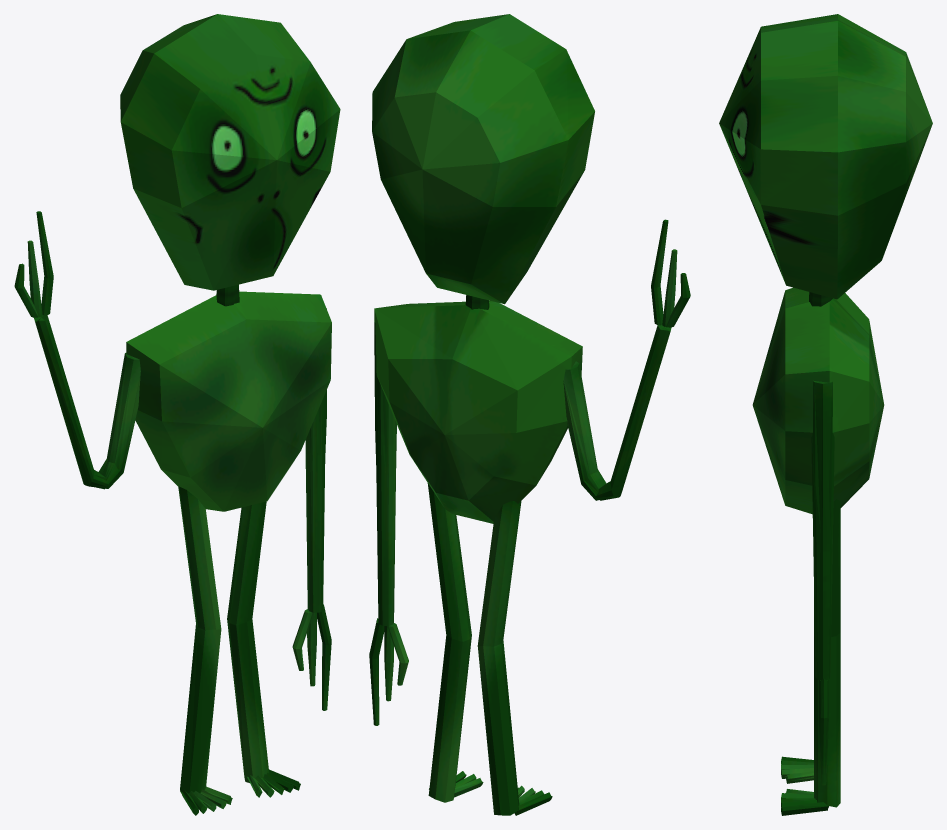
The model's file is UFO.glb.
The picture shows the model from 3 angles, left to right: view 1: azimuth 30°, elevation 25°; view 2: azimuth 150°, elevation 25°; view 3: azimuth 270°, elevation 25°; orthographic projection.
Parts seen in each view (by area): view 1: UFO; view 2: UFO; view 3: UFO.
Boxes of the visible parts, x1=… form: UFO: x1=14, y1=14, x2=340, y2=815; UFO: x1=369, y1=14, x2=690, y2=815; UFO: x1=719, y1=14, x2=932, y2=815.
Bounding box in the file's own units: 200 × 465 × 117.
1 material, 1 textured.
